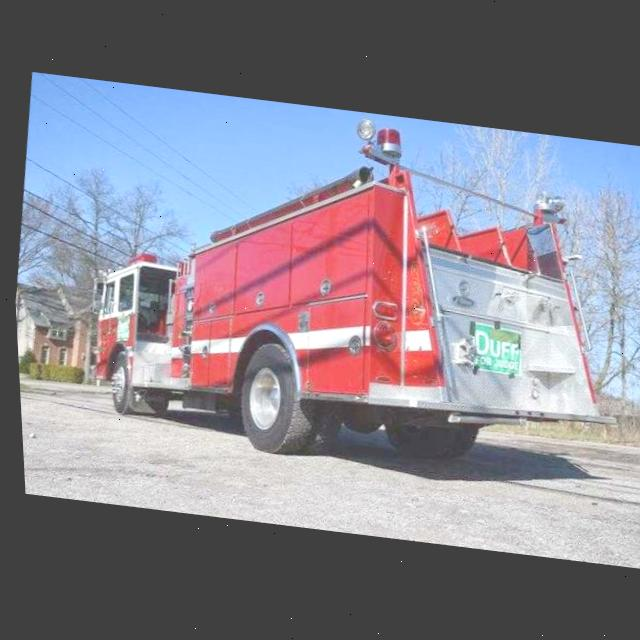emergency: (64, 88, 640, 496)
